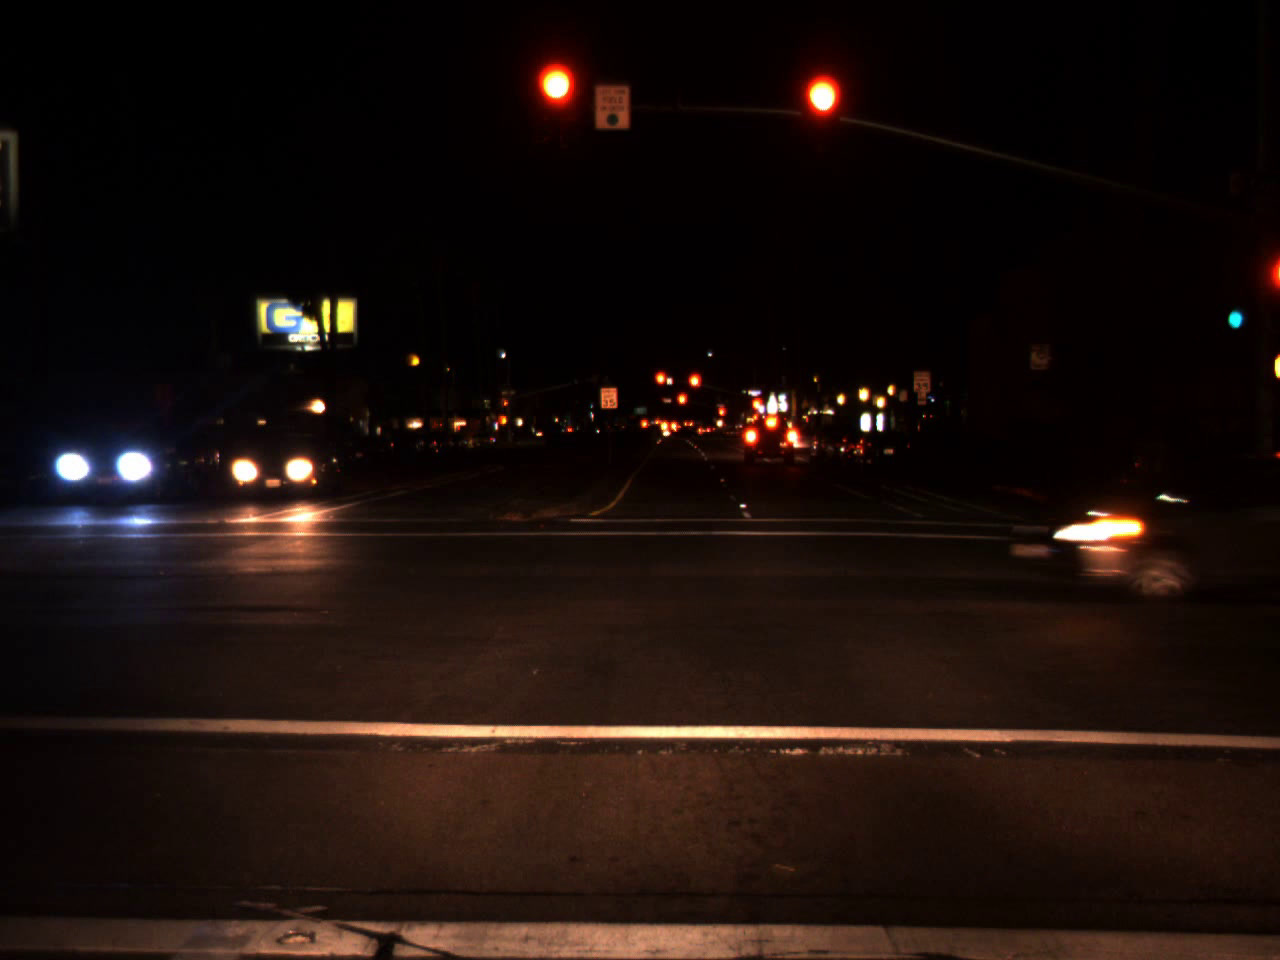stop: (536, 65, 576, 143), (801, 75, 840, 153), (653, 369, 668, 401), (686, 372, 702, 401), (676, 391, 688, 418), (749, 396, 764, 414), (717, 406, 727, 427), (502, 401, 508, 411)
